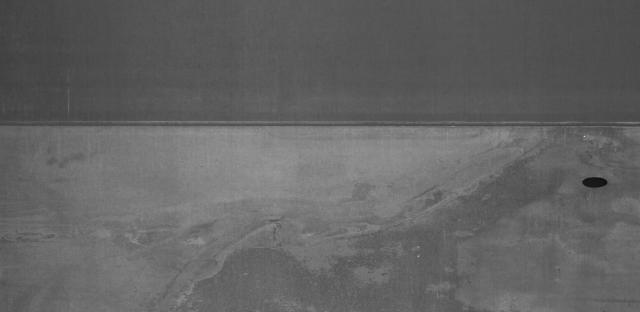punching_hole: (575, 172, 612, 192)
welding_line: (3, 114, 640, 140)
